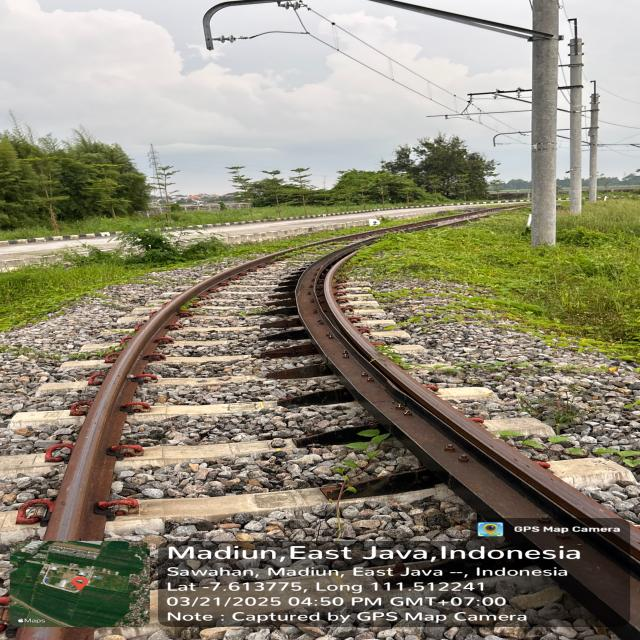rail-detection: (295, 240, 640, 640), (45, 255, 274, 541), (180, 209, 501, 300)
